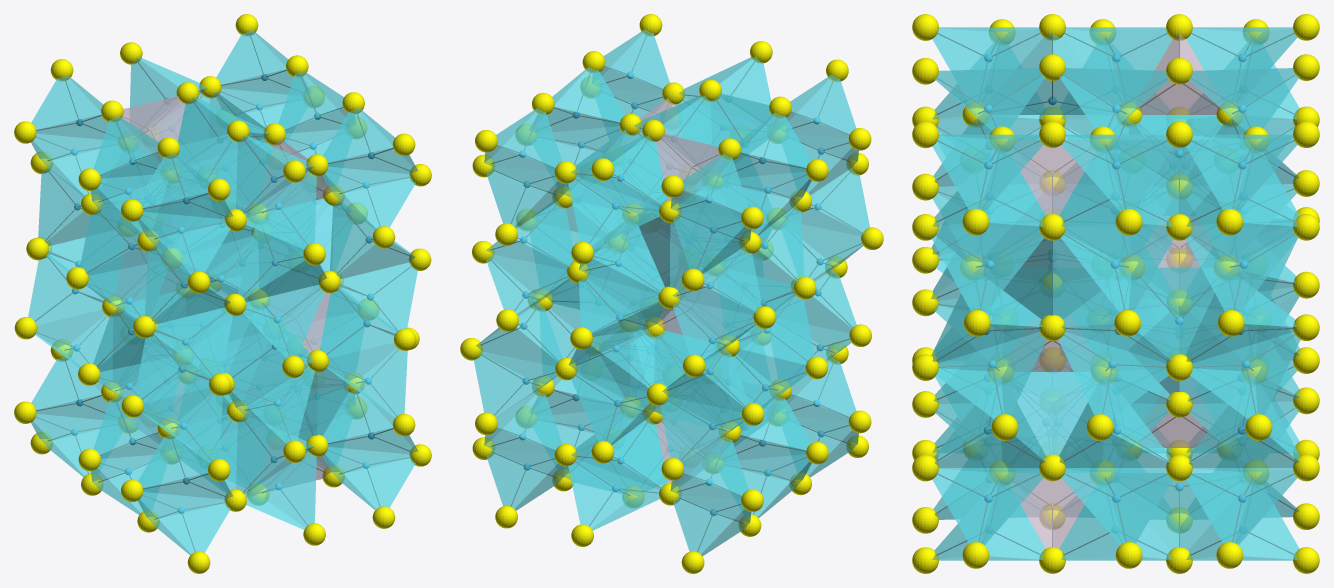
The model's file is Li10GeP2S12.fbx.
3 renders of one model, left to right at view 1: azimuth 30°, elevation 25°; view 2: azimuth 150°, elevation 25°; view 3: azimuth 270°, elevation 25°, orthographic. The views are drawn at different scales.
Visible parts, largest first — view 1: Shape_IndexedFaceSet.337, Shape_IndexedFaceSet.297, Shape_IndexedFaceSet.305, Shape_IndexedFaceSet.209, Shape_IndexedFaceSet.346, Shape_IndexedFaceSet.053, Shape_IndexedFaceSet.049, Shape_IndexedFaceSet.065, Shape_IndexedFaceSet.073, Shape_IndexedFaceSet.122, Shape_IndexedFaceSet.106, Shape_IndexedFaceSet.126 (+136 smaller); view 2: Shape_IndexedFaceSet.058, Shape_IndexedFaceSet.062, Shape_IndexedFaceSet.302, Shape_IndexedFaceSet.310, Shape_IndexedFaceSet.342, Shape_IndexedFaceSet.045, Shape_IndexedFaceSet.191, Shape_IndexedFaceSet.214, Shape_IndexedFaceSet.070, Shape_IndexedFaceSet.078, Shape_IndexedFaceSet.293, Shape_IndexedFaceSet.013 (+149 smaller); view 3: Shape_IndexedFaceSet.280, Shape_IndexedFaceSet.284, Shape_IndexedFaceSet.328, Shape_IndexedFaceSet.148, Shape_IndexedFaceSet.004, Shape_IndexedFaceSet.140, Shape_IndexedFaceSet, Shape_IndexedFaceSet.136, Shape_IndexedFaceSet.144, Shape_IndexedFaceSet.080, Shape_IndexedFaceSet.084, Shape_IndexedFaceSet.184 (+202 smaller).
Boxes of the visible parts, x1,y1,x2,y2 form: Shape_IndexedFaceSet.337: (232,363,314,443); Shape_IndexedFaceSet.297: (327,342,407,417); Shape_IndexedFaceSet.305: (142,388,222,462); Shape_IndexedFaceSet.209: (243,284,324,358); Shape_IndexedFaceSet.346: (238,229,320,301); Shape_IndexedFaceSet.053: (245,171,316,249); Shape_IndexedFaceSet.049: (245,451,316,529); Shape_IndexedFaceSet.065: (338,262,417,332); Shape_IndexedFaceSet.073: (153,307,232,377); Shape_IndexedFaceSet.122: (140,492,230,553); Shape_IndexedFaceSet.106: (325,447,415,508); Shape_IndexedFaceSet.126: (140,212,230,273); Shape_IndexedFaceSet.058: (568,459,659,530); Shape_IndexedFaceSet.062: (568,177,659,247); Shape_IndexedFaceSet.302: (474,351,556,417); Shape_IndexedFaceSet.310: (660,397,743,462); Shape_IndexedFaceSet.342: (571,372,649,443); Shape_IndexedFaceSet.045: (577,136,667,206); Shape_IndexedFaceSet.191: (738,295,814,364); Shape_IndexedFaceSet.214: (578,275,658,333); Shape_IndexedFaceSet.070: (486,254,568,313); Shape_IndexedFaceSet.078: (673,300,755,359); Shape_IndexedFaceSet.293: (679,250,761,314); Shape_IndexedFaceSet.013: (734,117,810,177); Shape_IndexedFaceSet.280: (931,227,1044,312); Shape_IndexedFaceSet.284: (1185,227,1297,312); Shape_IndexedFaceSet.328: (1060,227,1173,312); Shape_IndexedFaceSet.148: (1186,134,1297,211); Shape_IndexedFaceSet.004: (1061,134,1172,211); Shape_IndexedFaceSet.140: (932,134,1043,211); Shape_IndexedFaceSet: (1061,468,1172,544); Shape_IndexedFaceSet.136: (932,468,1043,544); Shape_IndexedFaceSet.144: (1186,468,1296,544); Shape_IndexedFaceSet.080: (936,332,1046,418); Shape_IndexedFaceSet.084: (1190,332,1300,418); Shape_IndexedFaceSet.184: (1058,332,1168,418).
Bounding box in the file's own units: 1398 × 1754 × 1398.
